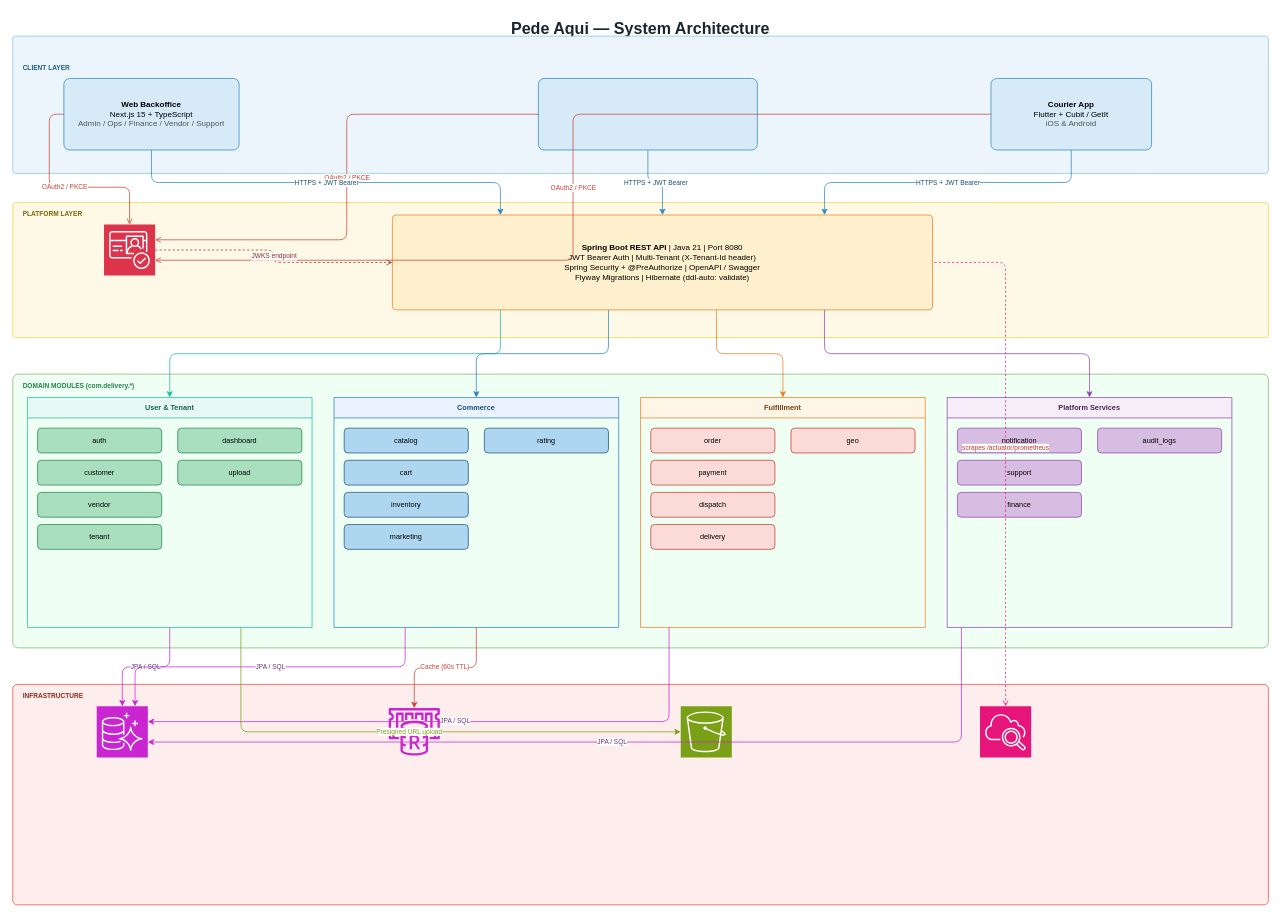
Image size: 1281x918. Some labels were removed from this diagram. Here are the shapes that lost their labels. From the top down, the centre of each, then its label:
At pixel 647 114: "Customer App Flutter + BLoC / GetIt iOS & Android".
At pixel 129 250: "Keycloak OAuth2 / OIDC / JWT".
At pixel 122 731: "PostgreSQL + PostGIS Primary Data Store".
At pixel 413 731: "Redis 7 Vendor Search Cache (60s)".
At pixel 706 731: "MinIO / AWS S3 Document & Media Storage".
At pixel 1005 731: "Prometheus v2.54 Metrics / Monitoring".
